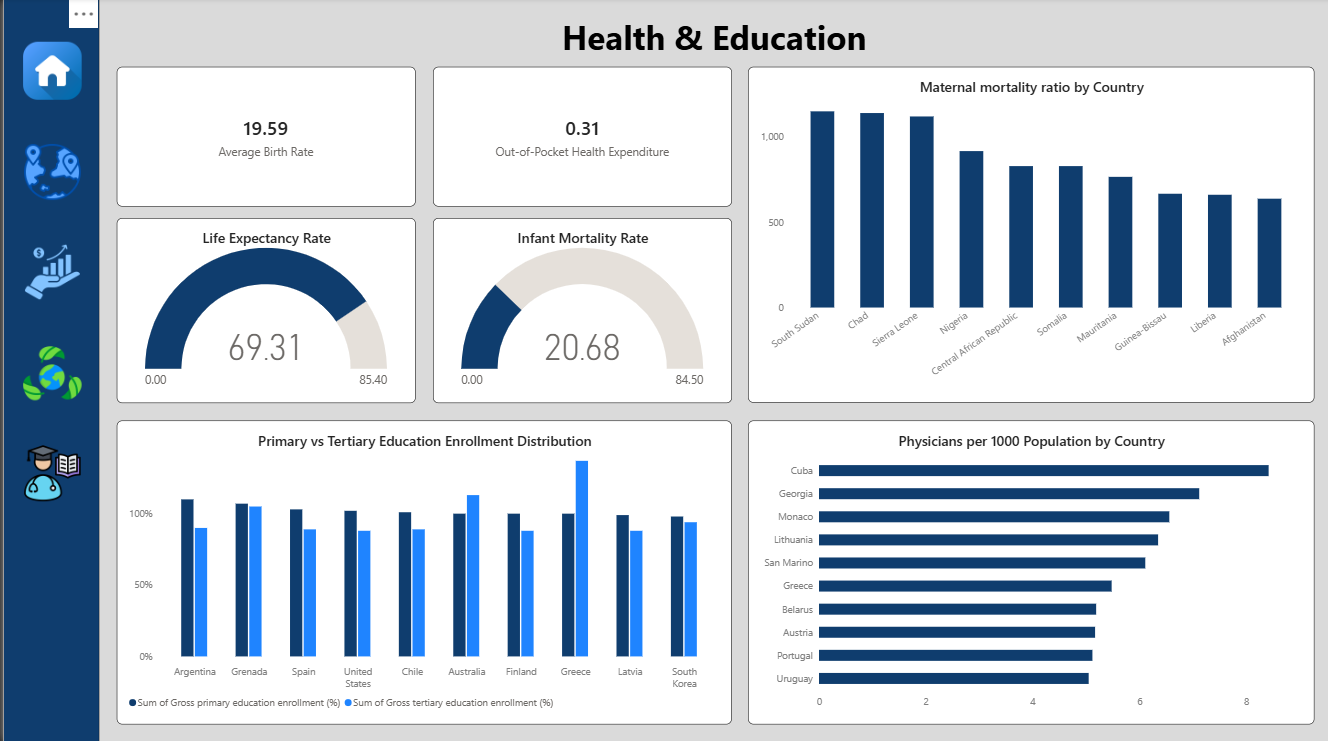

The page's visual inventory and layout, read from the dashboard file:
{"tool":"powerbi","page":{"name":"Health & Education","canvas":[1920,1080],"ordinal":4},"visuals":[{"type":"textbox","box":[139.3,23.5,1780.7,76],"z":0},{"type":"image","box":[16.3,63.3,110.4,84.4],"z":0,"group":"g1"},{"type":"shape","box":[0,0,139.3,1080.4],"z":1000},{"type":"image","box":[16.3,209.1,110.4,84.4],"z":1000,"group":"g1"},{"type":"gauge","title":"Life Expectancy Rate","fields":{"MaxValue":["Measure.Max Life Expectancy"],"MinValue":["Measure.Min Life Expectancy"],"Y":["Measure.Average Life Expectancy"]},"box":[164.7,318.5,432.5,267.8],"z":2000},{"type":"image","box":[16.3,355,110.4,84.4],"z":2000,"group":"g1"},{"type":"image","box":[16.3,500.8,110.4,84.4],"z":3000,"group":"g1"},{"type":"barChart","title":"Physicians per 1000 Population by Country","fields":{"Category":["Fact_WorldData.Country"],"Y":["Measure.Average Physicians per 1000"]},"box":[1078.6,611.7,819.8,439.7],"z":3000},{"type":"gauge","title":"Infant Mortality Rate","fields":{"MaxValue":["Measure.Max Infrant Mortality Rate"],"Y":["Measure.Infant Mortality Rate"]},"box":[622.5,318.5,432.5,267.8],"z":4000},{"type":"image","box":[16.3,646.7,110.4,84.4],"z":4000,"group":"g1"},{"type":"clusteredColumnChart","title":"Primary vs Tertiary Education Enrollment Distribution","fields":{"Category":["Fact_WorldData.Country"],"Y":["Sum(Fact_WorldData.Gross primary education enrollment (%))","Sum(Fact_WorldData.Gross tertiary education enrollment (%))"]},"box":[164.7,611.7,890.4,439.7],"z":5000},{"type":"clusteredColumnChart","title":"Maternal mortality ratio by Country","fields":{"Category":["Fact_WorldData.Country"],"Y":["Sum(Fact_WorldData.Maternal mortality ratio)"]},"box":[1078.6,99.5,819.8,486.8],"z":6000},{"type":"card","fields":{"Values":["Measure.Average Birth Rate"]},"box":[164.7,99.5,432.5,202.7],"z":7000},{"type":"card","fields":{"Values":["Measure.Out-of-Pocket Health Expenditure"]},"box":[622.5,99.5,432.5,202.7],"z":8000},{"type":"group","id":"g1","title":"Group 1","box":[16.3,63.3,110.4,667.8],"z":8001}]}

Visuals, with their boxes on the page's 1920x1080 design canvas (x1, y1, x2, y2). These are canvas units, not pixel positions in the 1328x741 screenshot, which may show the page scaled, cropped or inside an application window:
textbox: box=[139, 24, 1920, 100]
image: box=[16, 63, 127, 148]
shape: box=[0, 0, 139, 1080]
image: box=[16, 209, 127, 294]
"Life Expectancy Rate" gauge: box=[165, 318, 597, 586]
image: box=[16, 355, 127, 439]
image: box=[16, 501, 127, 585]
"Physicians per 1000 Population by Country" barChart: box=[1079, 612, 1898, 1051]
"Infant Mortality Rate" gauge: box=[622, 318, 1055, 586]
image: box=[16, 647, 127, 731]
"Primary vs Tertiary Education Enrollment Distribution" clusteredColumnChart: box=[165, 612, 1055, 1051]
"Maternal mortality ratio by Country" clusteredColumnChart: box=[1079, 100, 1898, 586]
card - Measure.Average Birth Rate: box=[165, 100, 597, 302]
card - Measure.Out-of-Pocket Health Expenditure: box=[622, 100, 1055, 302]
"Group 1" group: box=[16, 63, 127, 731]
